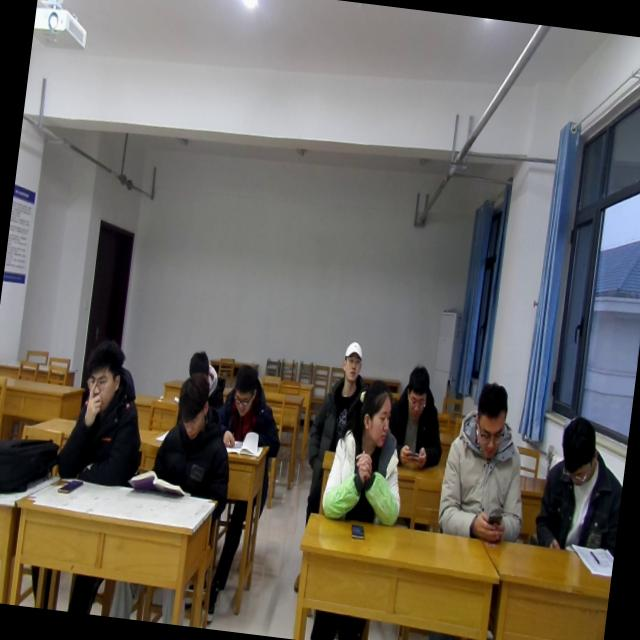down: (78, 333, 130, 421), (553, 408, 602, 488), (468, 376, 512, 464), (172, 364, 214, 444), (399, 362, 437, 423), (226, 358, 262, 416), (182, 344, 213, 386)
lookup: (338, 334, 367, 385)
sit: (432, 372, 542, 544), (51, 341, 152, 494), (531, 410, 630, 557), (318, 381, 412, 534), (148, 370, 240, 505), (308, 328, 372, 480), (380, 358, 450, 471), (220, 358, 292, 461), (176, 338, 226, 414)
